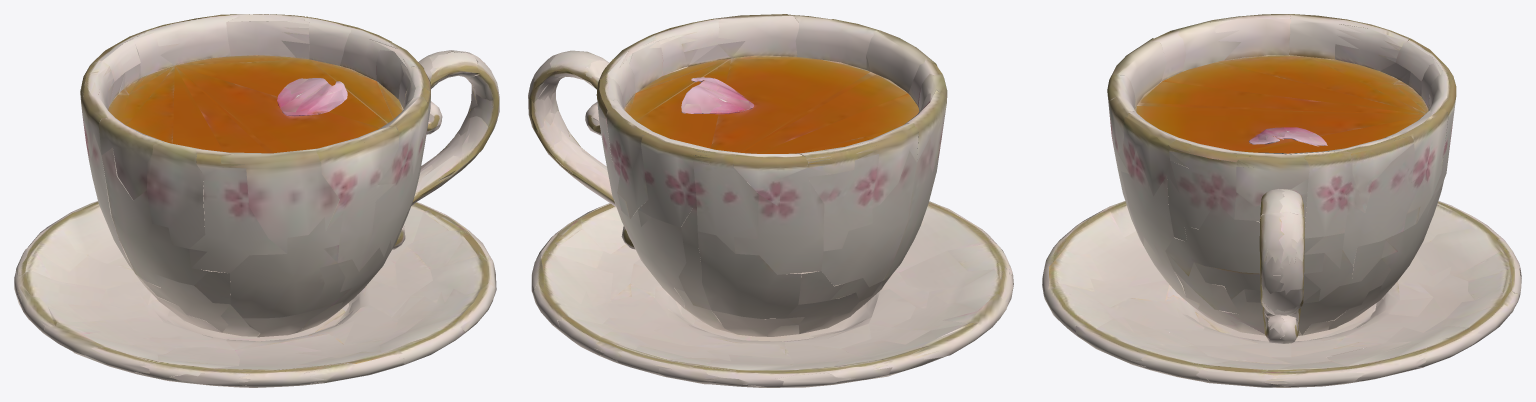
Rendered from teacup.glb.
3 views of the same model, side by side, from view 1: azimuth 30°, elevation 25°; view 2: azimuth 150°, elevation 25°; view 3: azimuth 270°, elevation 25° (orthographic).
Parts seen in each view (by area): view 1: Mesh_0; view 2: Mesh_0; view 3: Mesh_0.
Boxes of the visible parts, x1,y1,x2,y2 form: Mesh_0: [14, 14, 499, 387]; Mesh_0: [528, 14, 1013, 387]; Mesh_0: [1042, 14, 1521, 387].
Bounding box in the file's own units: 0.85 × 0.4345 × 0.7872.
Materials: 1 (1 with a texture image).
